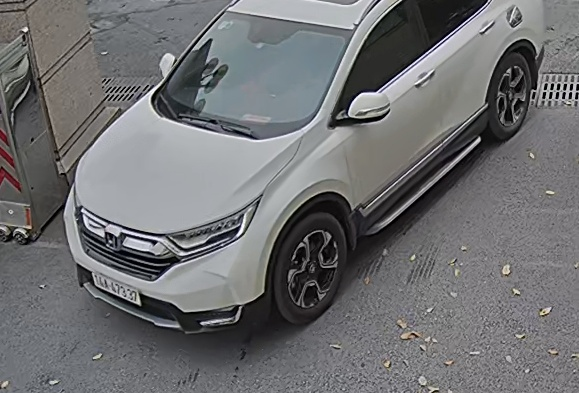vehicle plate: (87, 265, 145, 313)
